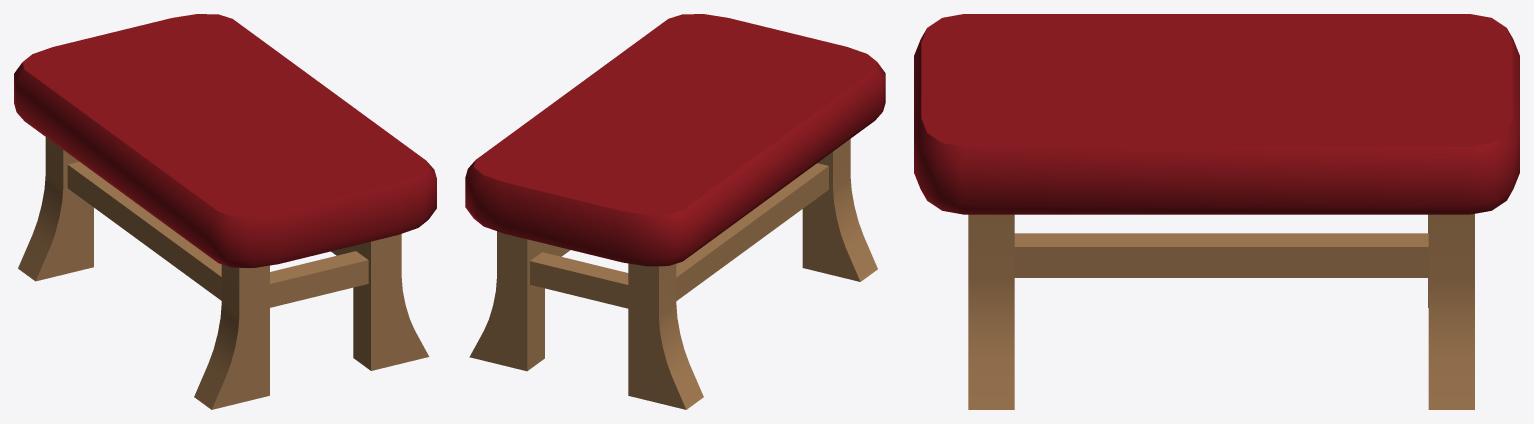
The model's file is Bench.glb.
3 renders of one model, left to right at view 1: azimuth 30°, elevation 25°; view 2: azimuth 150°, elevation 25°; view 3: azimuth 270°, elevation 25°, orthographic. The views are drawn at different scales.
Parts seen in each view (by area): view 1: Environment_Bench; view 2: Environment_Bench; view 3: Environment_Bench.
Part boxes in pixels (box(x1,y1,x2,y2)): Environment_Bench: box(14, 14, 436, 409); Environment_Bench: box(465, 14, 885, 409); Environment_Bench: box(914, 14, 1519, 409).
Bounding box in the file's own units: 0.8757 × 0.7442 × 1.57.
1 material, 1 textured.
